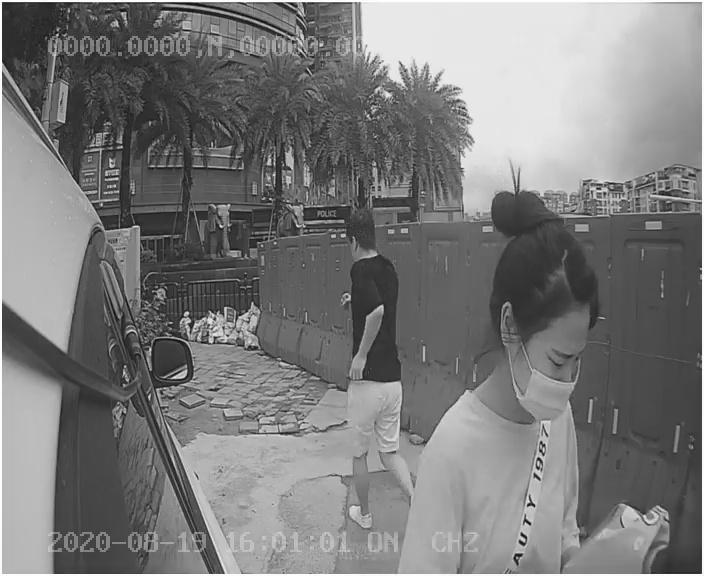person: (307, 206, 436, 521)
